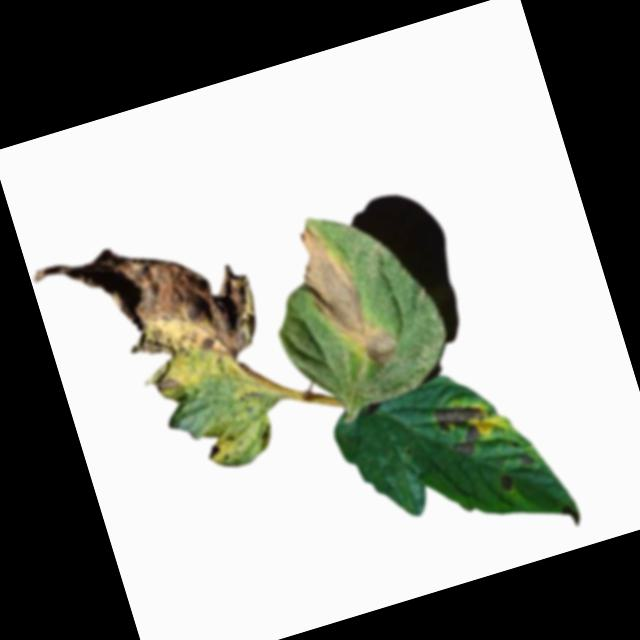Early_blight: (29, 208, 271, 417), (285, 208, 401, 381), (431, 394, 496, 463), (558, 498, 582, 528), (498, 470, 519, 492), (517, 447, 538, 466), (203, 440, 221, 460)
